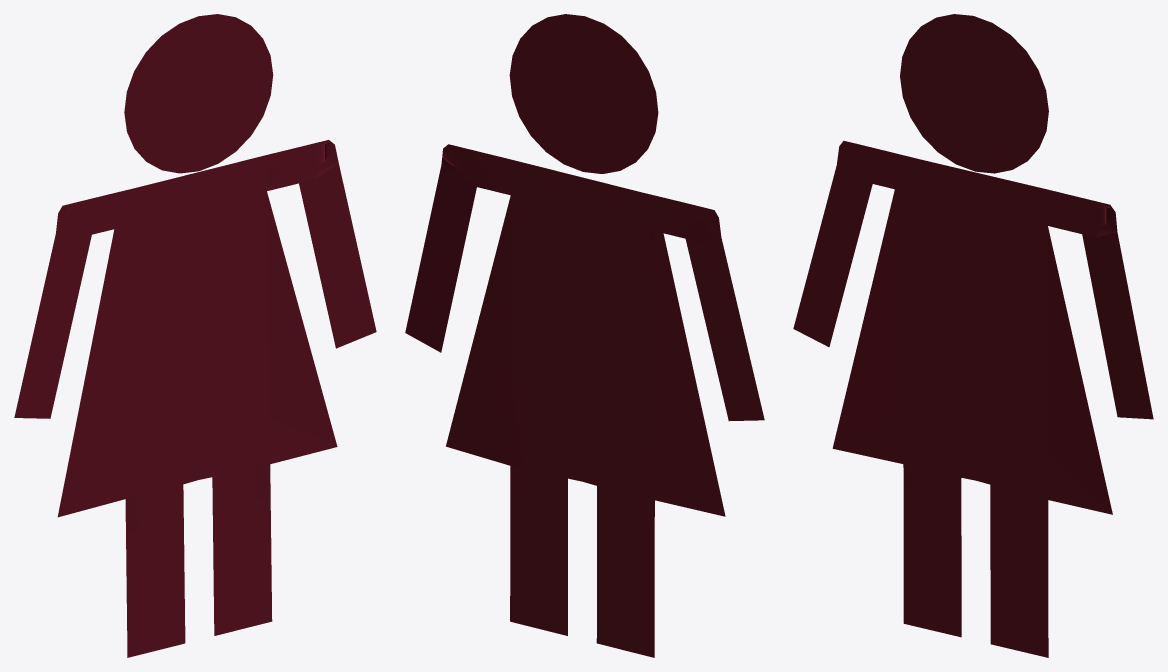
Rendered from Mujer.obj.
The picture shows the model from 3 angles, left to right: view 1: azimuth 30°, elevation 25°; view 2: azimuth 150°, elevation 25°; view 3: azimuth 330°, elevation 25°; orthographic projection.
Visible parts, largest first — view 1: pDisc2; view 2: pDisc2; view 3: pDisc2.
Boxes of the visible parts, <box> form: pDisc2: <box>14,14,376,657</box>; pDisc2: <box>405,14,764,657</box>; pDisc2: <box>793,14,1153,657</box>.
Bounding box in the file's own units: 4.85 × 8.02 × 0.095.
Materials: 1 (1 with a texture image).
